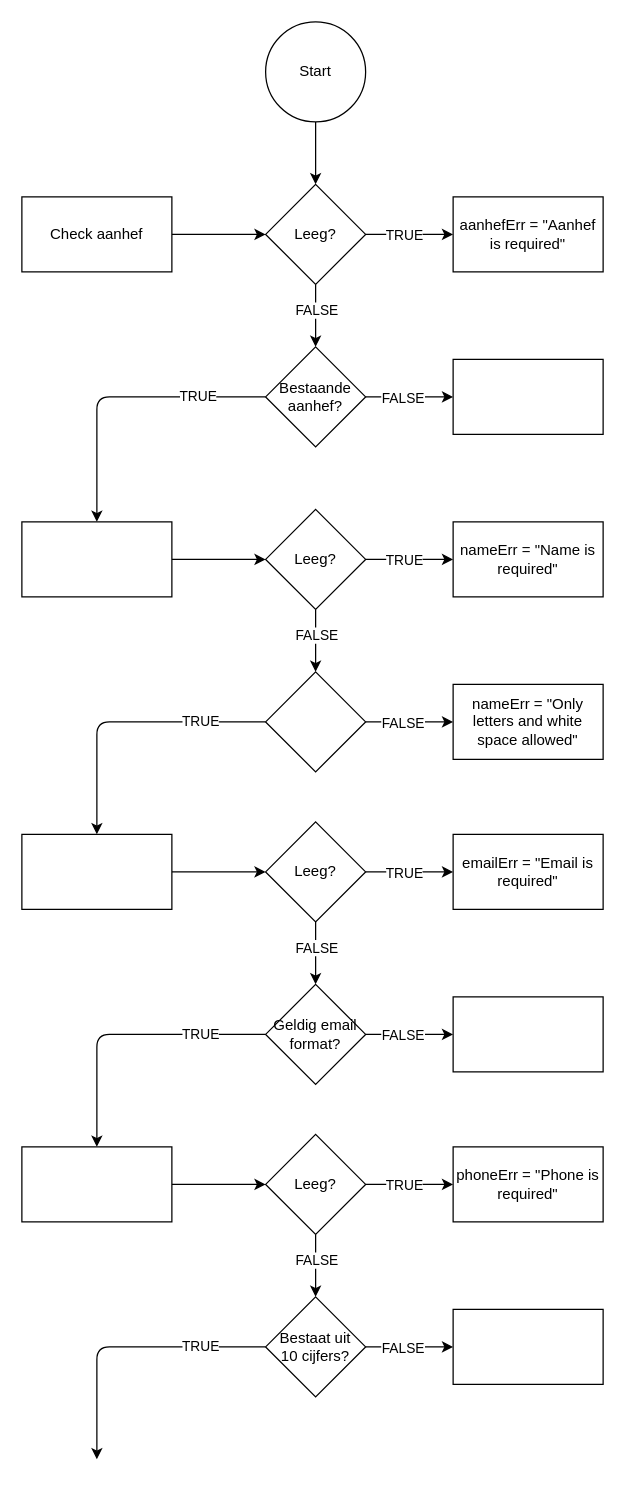
Image size: 625x1491. Some labels were removed from this diagram. The centre of each missing label's shape, as x and y in pixels:
aanhefErr = "Not an option": (527,396)
Bestaat uit letters?: (315,721)
Check email: (96,871)
Check name: (96,559)
Check phone: (96,1184)
emailErr = "Invalid Email format": (527,1034)
phoneErr = "Not a valid phonenumber": (527,1346)
